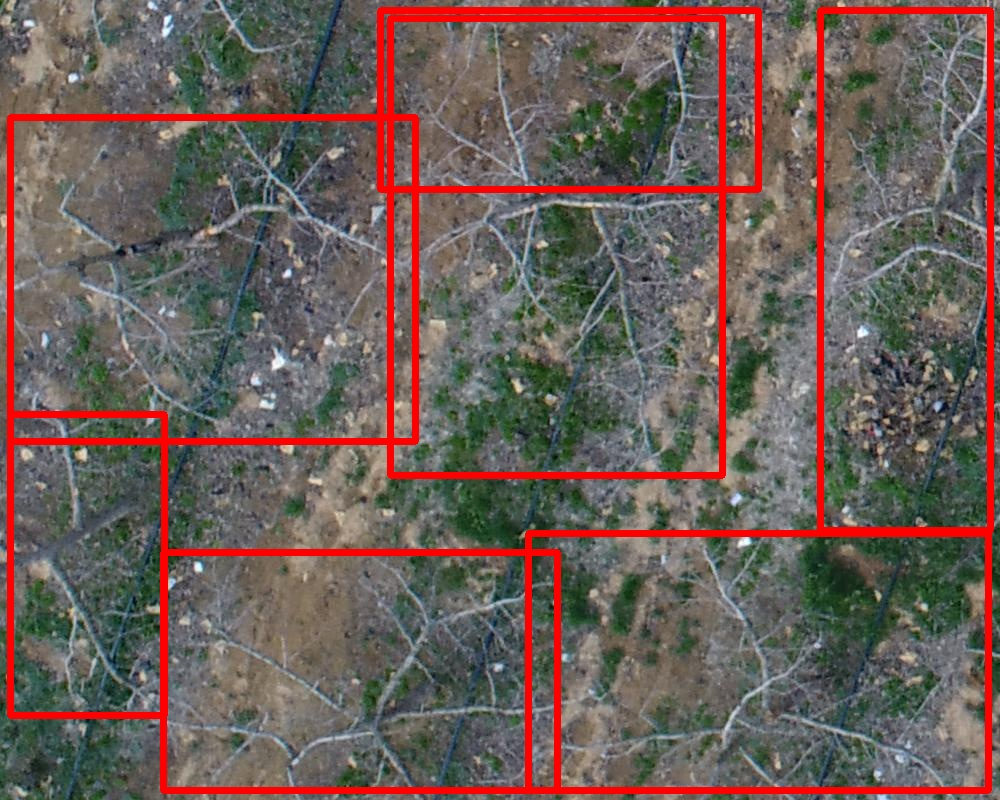apple: (390, 18, 722, 475), (10, 117, 415, 441), (528, 533, 988, 790), (163, 552, 557, 790), (820, 10, 990, 530), (380, 10, 758, 189), (10, 414, 164, 715)
